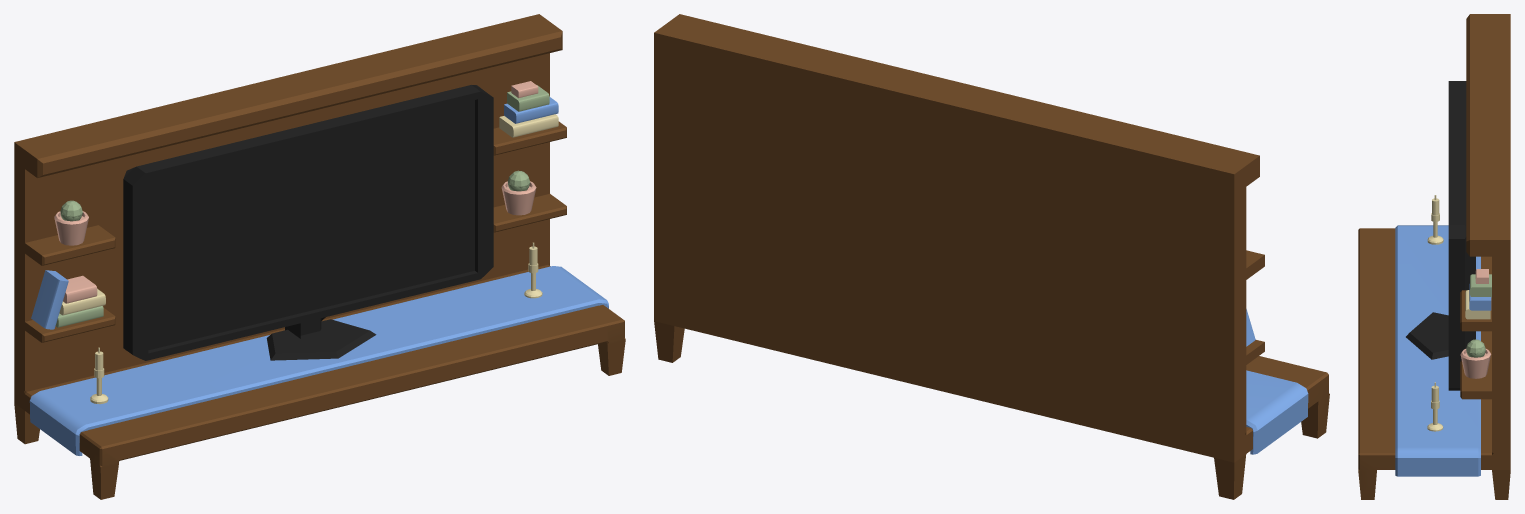
The model's file is geo_TVCabinet_01.fbx.
3 views of the same model, side by side, from view 1: azimuth 30°, elevation 25°; view 2: azimuth 150°, elevation 25°; view 3: azimuth 270°, elevation 25° (orthographic). The views are drawn at different scales.
Parts seen in each view (by area): view 1: Cabinet, geo_TV_01, geo_tableRunner_02, geo_TVStand_01, geo_Book_0, geo_Book_6, geo_PlantContainer_01, geo_PlantContainer_02, geo_Book_5, geo_Book_3; view 2: Cabinet, geo_tableRunner_02; view 3: Cabinet, geo_tableRunner_02, geo_TV_01, geo_TVStand_01, geo_PlantContainer_02, geo_candle_06, geo_candle_07, geo_Book_4, geo_Book_6, geo_Book_5, geo_plantShrub_03, geo_Book_7.
Part boxes in pixels (x1,y1,x2,y2): Cabinet: (14,14,625,499); geo_TV_01: (123,85,493,360); geo_tableRunner_02: (29,266,608,455); geo_TVStand_01: (266,319,376,360); geo_Book_0: (31,270,68,329); geo_Book_6: (499,114,558,137); geo_PlantContainer_01: (54,211,88,245); geo_PlantContainer_02: (501,181,536,215); geo_Book_5: (504,97,558,123); geo_Book_3: (63,275,97,303); Cabinet: (654,14,1329,499); geo_tableRunner_02: (1246,370,1308,454); Cabinet: (1358,14,1510,499); geo_tableRunner_02: (1395,225,1480,476); geo_TV_01: (1448,81,1475,390); geo_TVStand_01: (1406,312,1448,359); geo_PlantContainer_02: (1460,349,1491,378); geo_candle_06: (1427,195,1443,244); geo_candle_07: (1427,382,1443,431); geo_Book_4: (1470,274,1491,297); geo_Book_6: (1465,290,1490,319); geo_Book_5: (1469,283,1491,310); geo_plantShrub_03: (1466,339,1485,356); geo_Book_7: (1475,269,1488,283).
Size of the model in its own units: 283 by 150 by 79.66.
